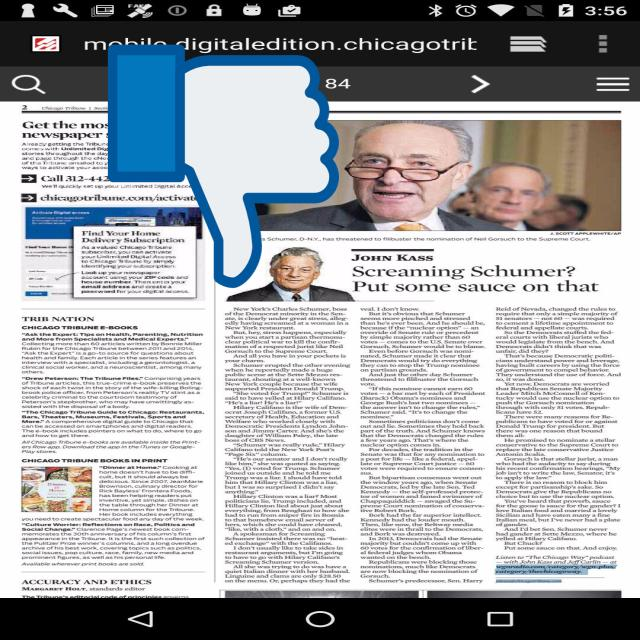obstruction: (108, 39, 339, 294)
